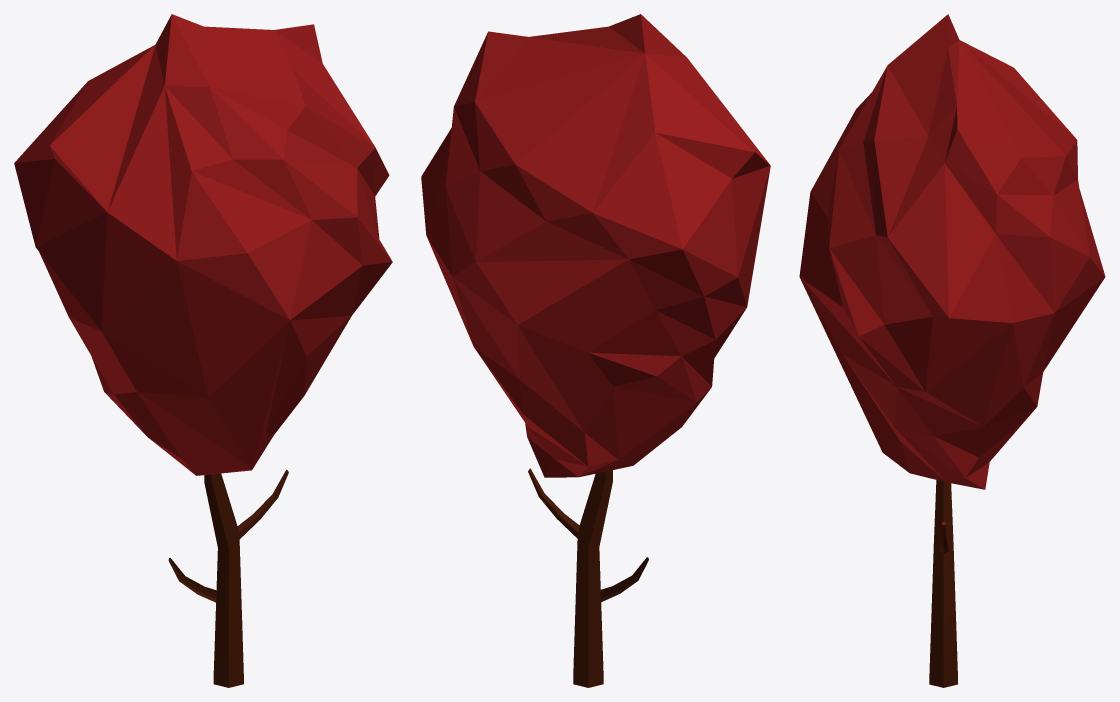
The model's file is tree pink.FBX.
3 views of the same model, side by side, from view 1: azimuth 30°, elevation 25°; view 2: azimuth 150°, elevation 25°; view 3: azimuth 270°, elevation 25° (orthographic). The views are drawn at different scales.
Parts seen in each view (by area): view 1: tree pink; view 2: tree pink; view 3: tree pink.
Boxes of the visible parts, x1,y1,x2,y2 form: tree pink: (14,14,392,687); tree pink: (421,14,770,687); tree pink: (799,14,1105,687).
Size of the model in its own units: 2.55 by 2.13 by 4.92.
